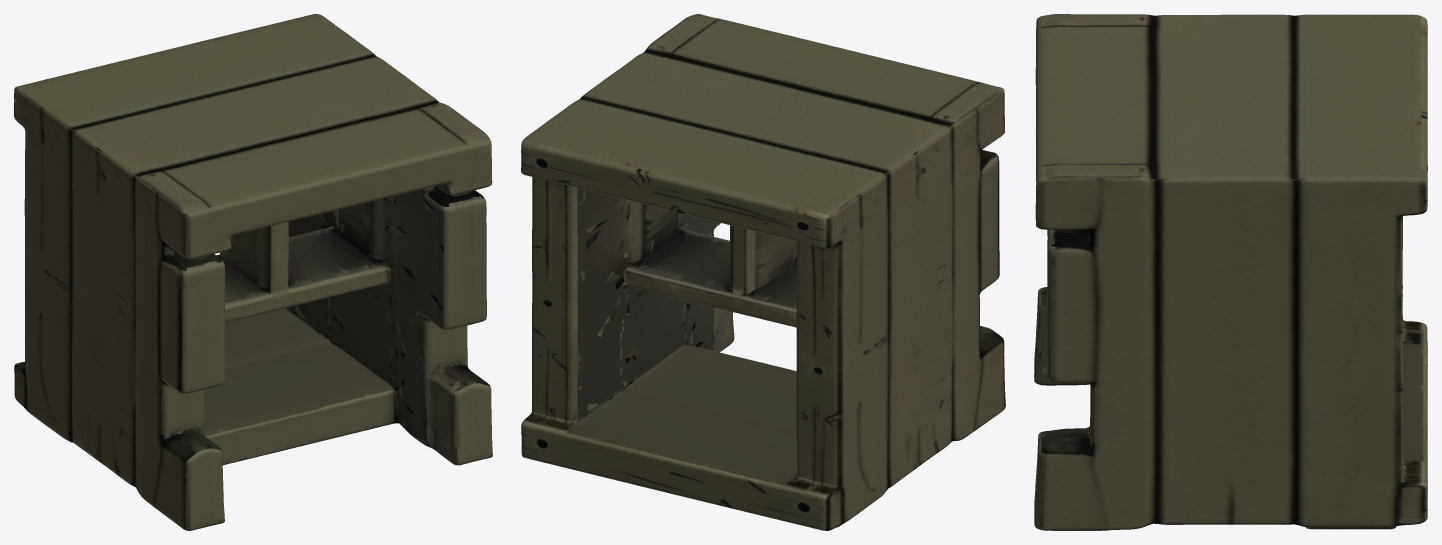
File: window-boards.glb
3 views of the same model, side by side, from view 1: azimuth 30°, elevation 25°; view 2: azimuth 150°, elevation 25°; view 3: azimuth 270°, elevation 25° (orthographic). The views are drawn at different scales.
Parts seen in each view (by area): view 1: tmpaqebg4w8.ply; view 2: tmpaqebg4w8.ply; view 3: tmpaqebg4w8.ply.
Boxes of the visible parts, left/top/right/bottom form: tmpaqebg4w8.ply: left=14, top=14, right=492, bottom=530; tmpaqebg4w8.ply: left=521, top=14, right=1005, bottom=530; tmpaqebg4w8.ply: left=1034, top=14, right=1427, bottom=530.
Size of the model in its own units: 1 by 1 by 1.
Materials: 1 (1 with a texture image).
